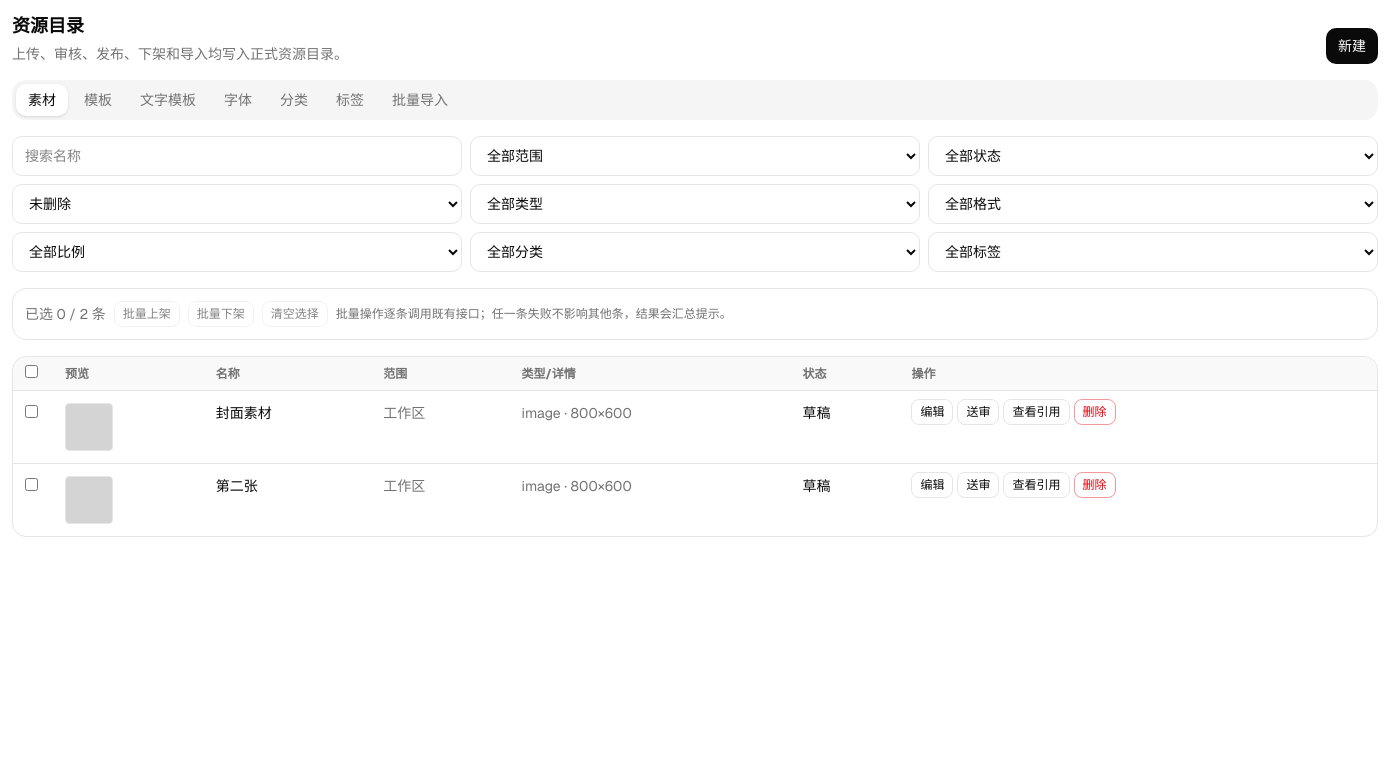
Test: DesignResourceAdminSection › applies a batch status change row by row and reports the outcome
Expected: the text "封面素材" is shown, [204, 390, 371, 464]
// The select-all box appears once the page's thumbnails have been fetched.
Click the checkbox named "全选": (32, 372) [25, 365, 38, 378]
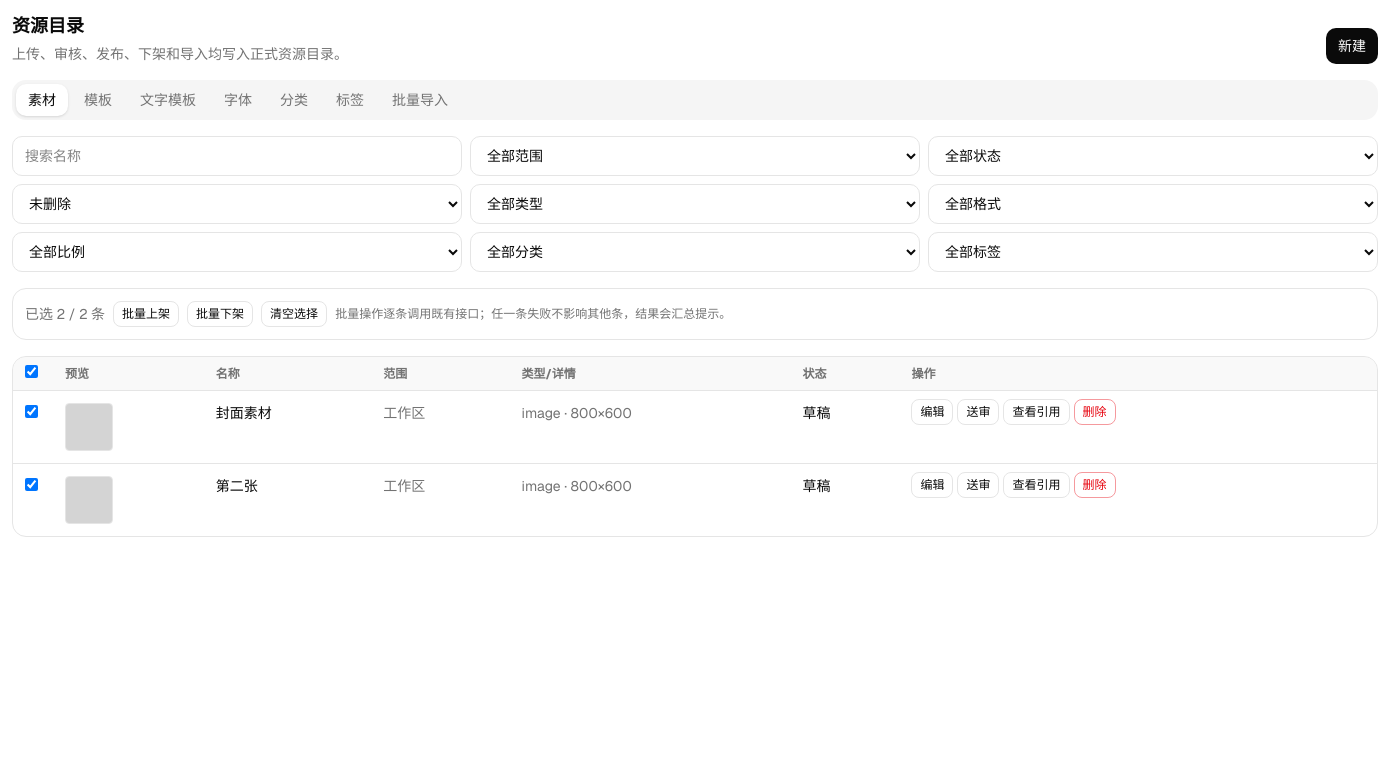
Click the button "批量上架": (146, 314) [113, 301, 179, 327]
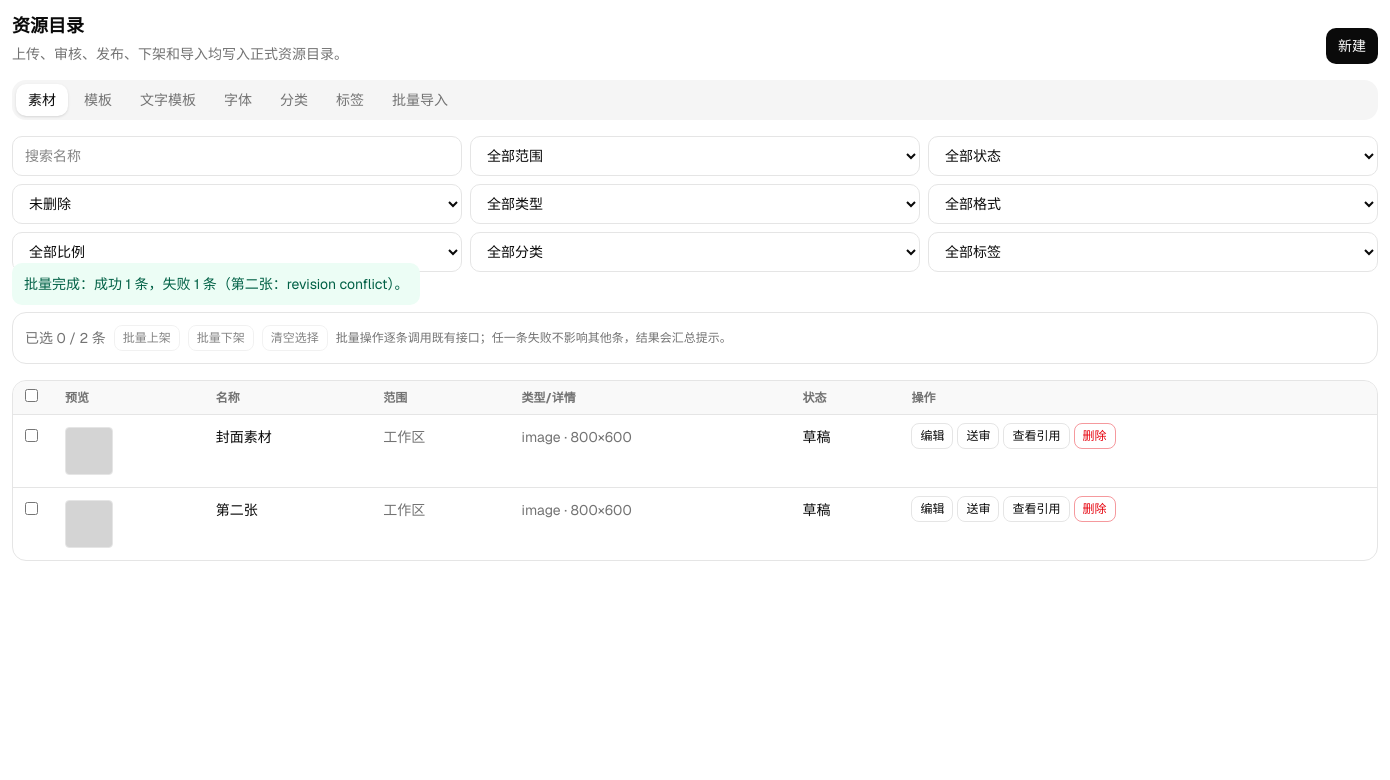
Now the text "批量完成：成功 1 条，失败 1 条（第二张：revision conflict）。" is shown, box [12, 263, 420, 305]
